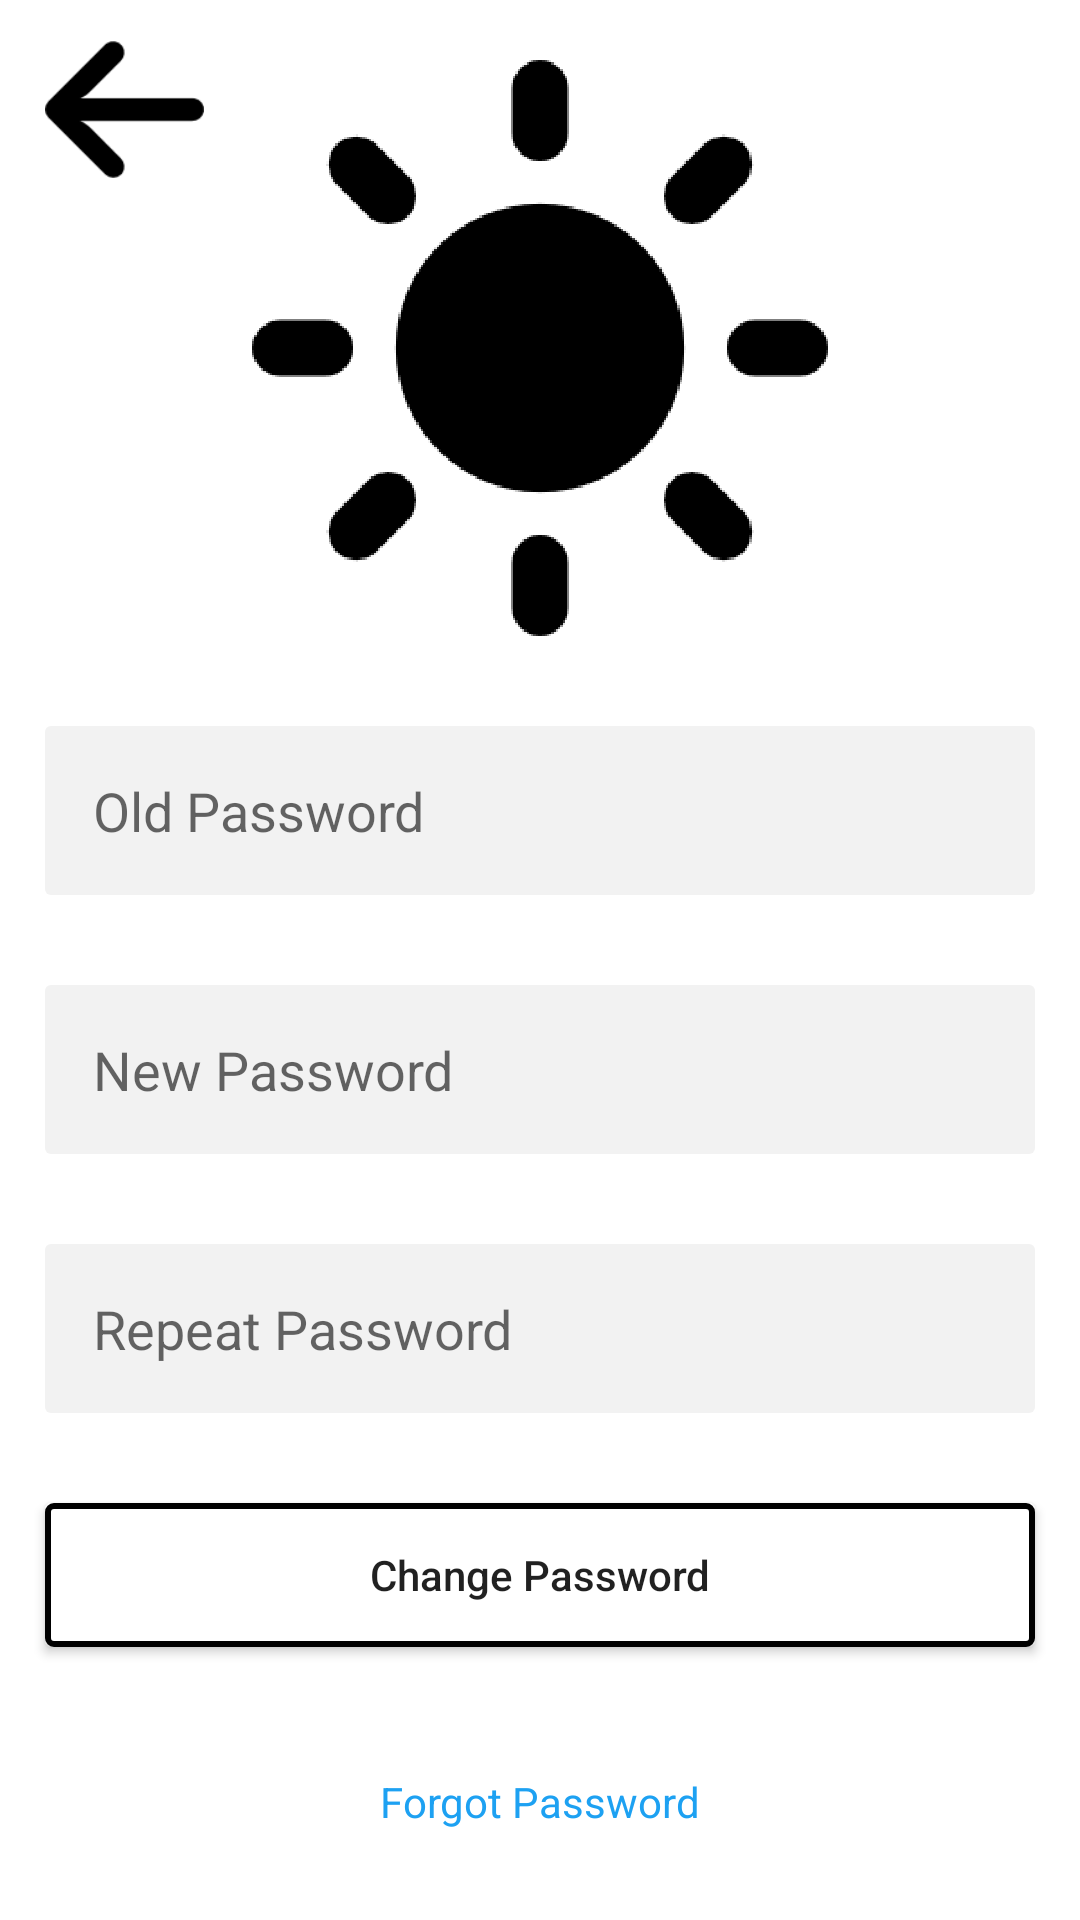

Named icons in this screenshot (1080 × 1920) and their bounding boxes, (x1, y1, x2, y2):
left arrow: (45, 41, 204, 178)
